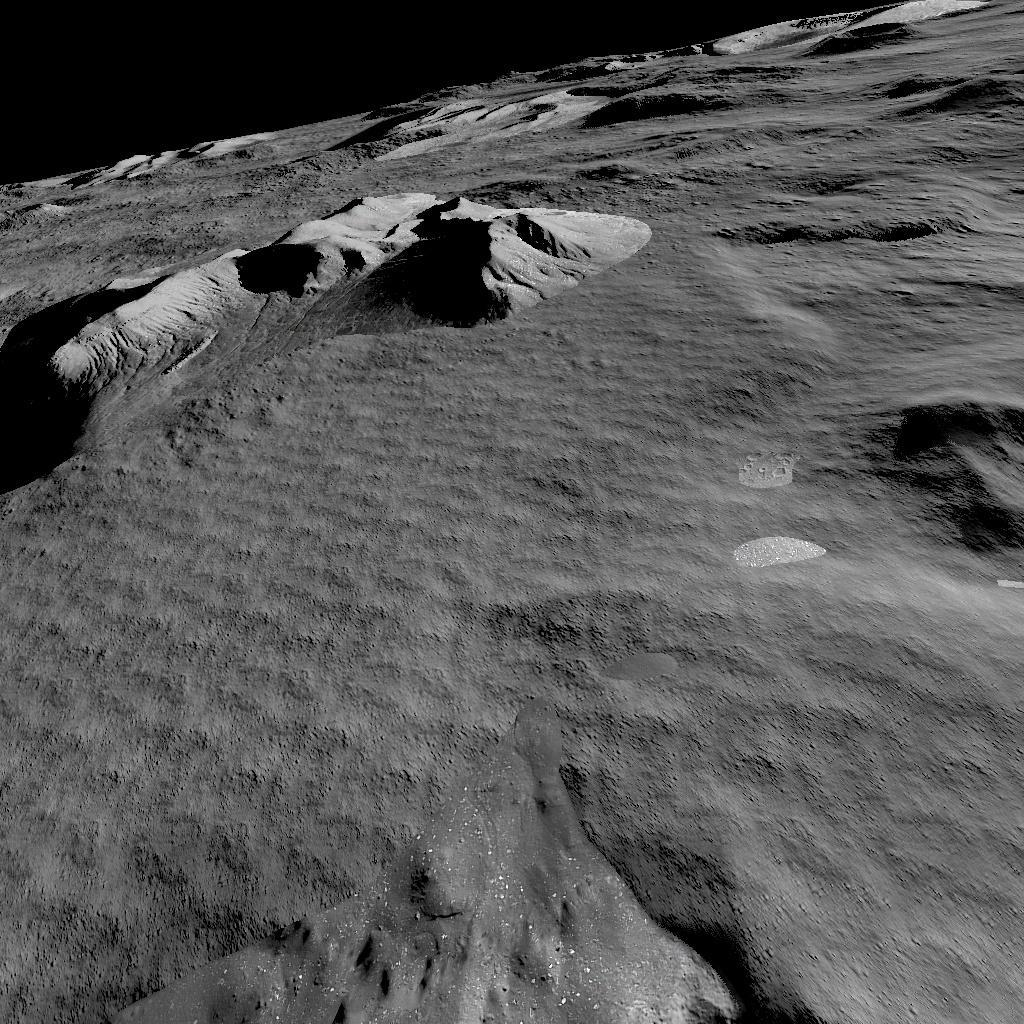Boulders: (0, 195, 653, 498), (331, 0, 1024, 158), (54, 128, 280, 182)
Crater: (0, 835, 1024, 1024), (876, 395, 1024, 565), (711, 210, 943, 250)
Plan surface: (0, 510, 863, 823)
